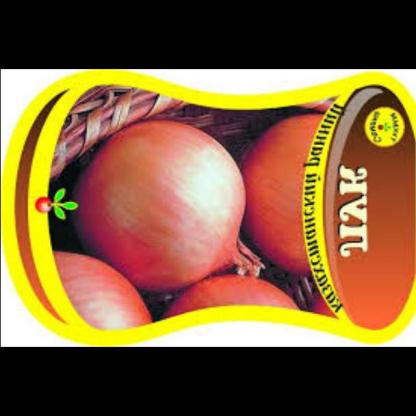onion: (73, 108, 264, 282), (246, 105, 326, 280), (36, 241, 148, 342), (147, 262, 318, 320)
